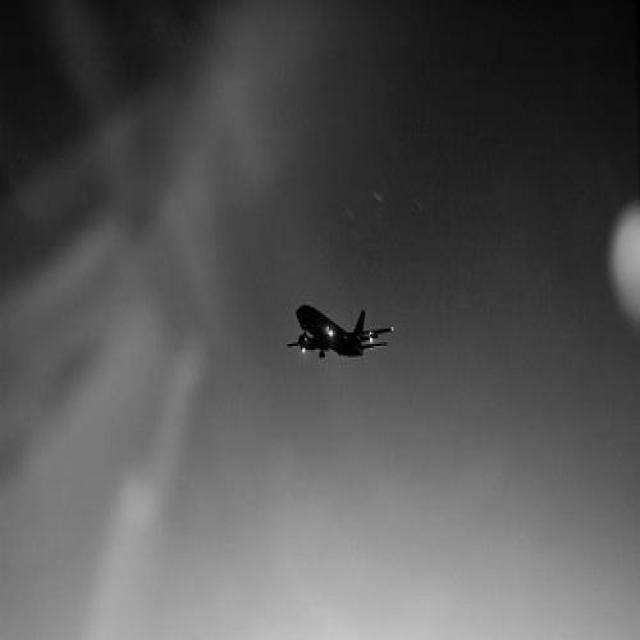aeroplane: (283, 292, 398, 367)
